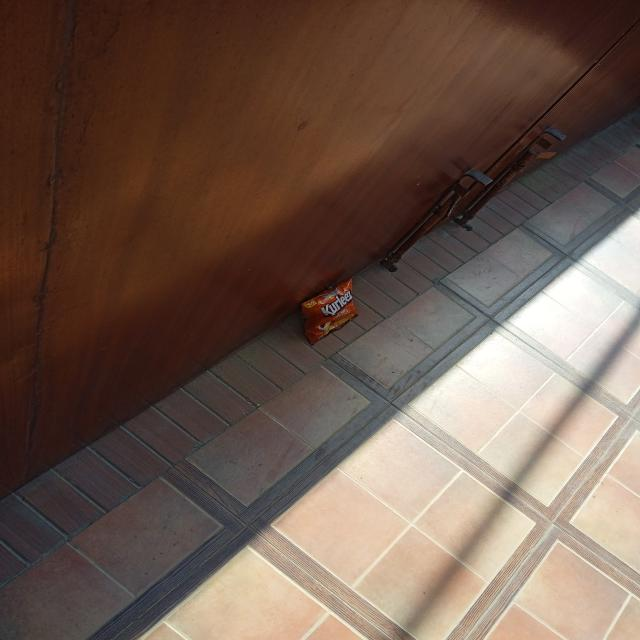Plastic: (300, 274, 363, 346)
